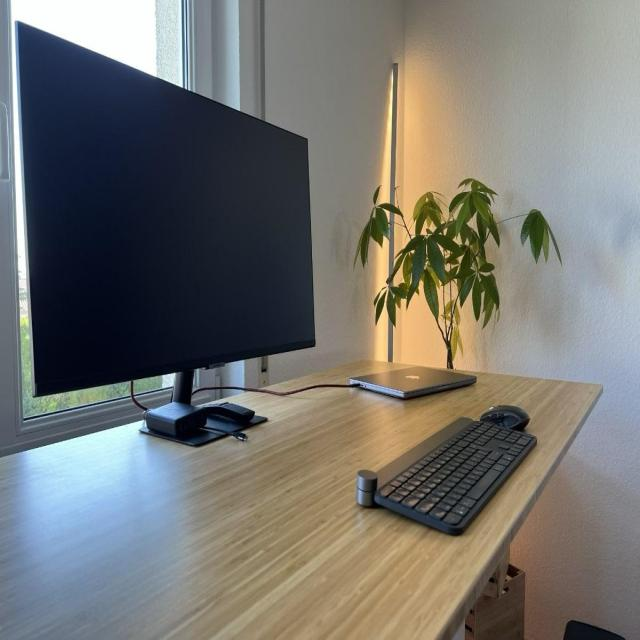keyboard: (355, 405, 539, 538)
